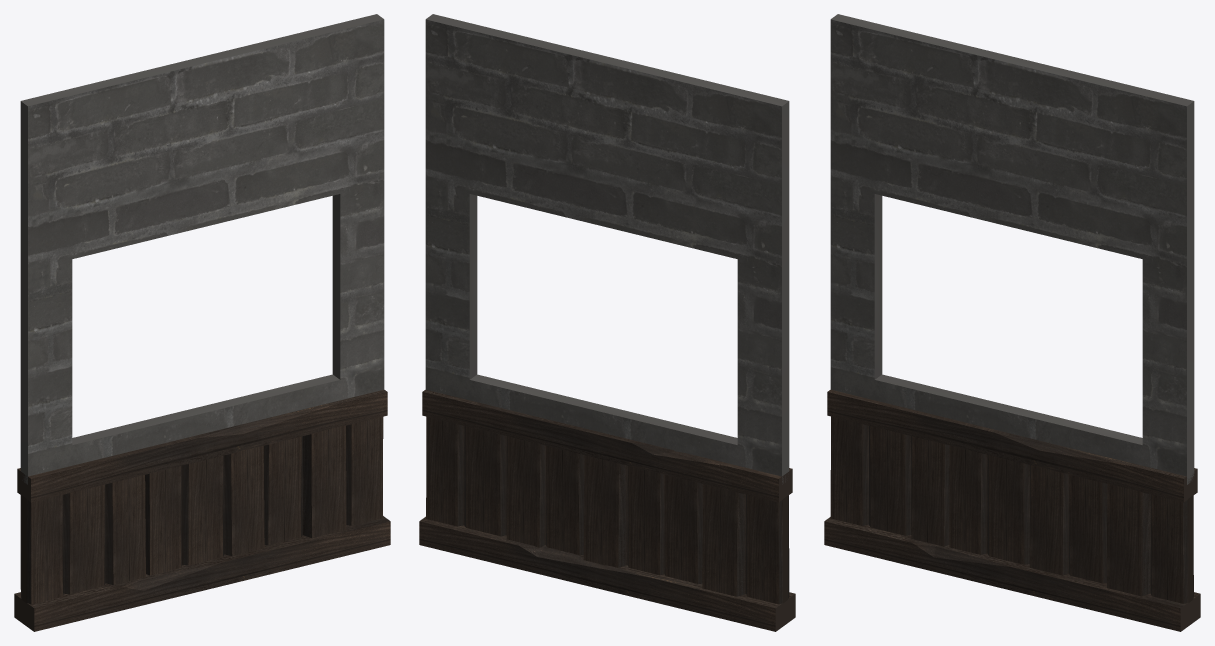
File: wall2_Mk2.fbx
3 views of the same model, side by side, from view 1: azimuth 30°, elevation 25°; view 2: azimuth 150°, elevation 25°; view 3: azimuth 330°, elevation 25° (orthographic).
Visible parts, largest first — view 1: SM_Bld_House_Wall_02.004, SM_Bld_House_Wall_02.002; view 2: SM_Bld_House_Wall_02.004, SM_Bld_House_Wall_02.002; view 3: SM_Bld_House_Wall_02.004, SM_Bld_House_Wall_02.002.
Boxes of the visible parts, box(x1,y1,x2,y2) form: SM_Bld_House_Wall_02.004: box(20, 14, 384, 484); SM_Bld_House_Wall_02.002: box(14, 389, 390, 631); SM_Bld_House_Wall_02.004: box(425, 14, 789, 484); SM_Bld_House_Wall_02.002: box(419, 389, 795, 631); SM_Bld_House_Wall_02.004: box(830, 14, 1194, 484); SM_Bld_House_Wall_02.002: box(824, 389, 1200, 631).
Size of the model in its own units: 250 by 349 by 24.2.
Materials: 2 (2 with a texture image).
